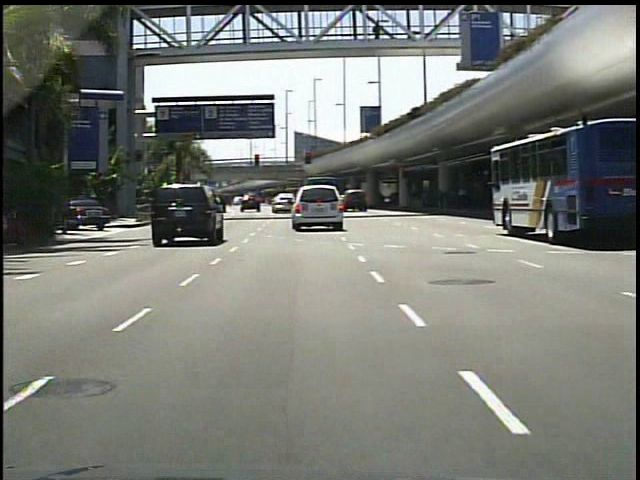person: (362, 22, 380, 46)
